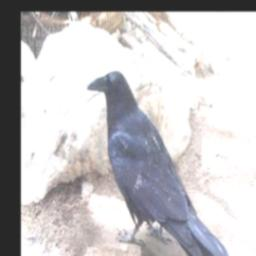Crow: (84, 67, 229, 256)
